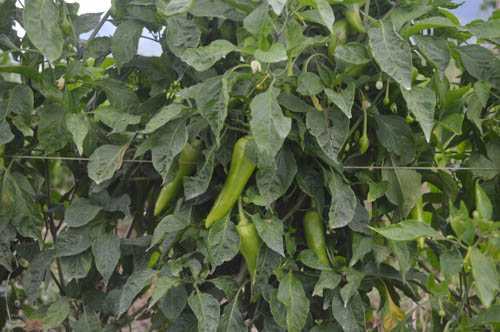ChiliPepper: (202, 137, 263, 229), (150, 144, 197, 228), (300, 208, 327, 269), (239, 225, 259, 275), (325, 19, 350, 52)
